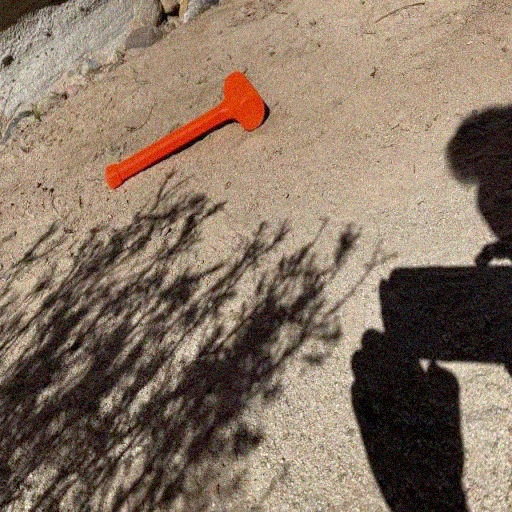mallet: (103, 66, 268, 192)
